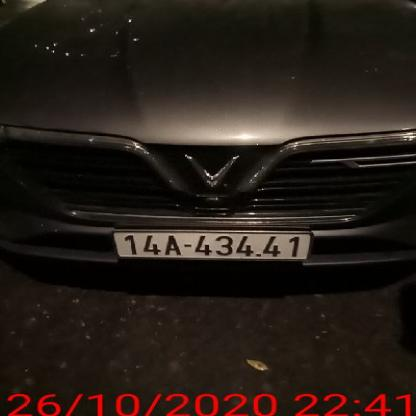biensoxe: (111, 220, 320, 270)
